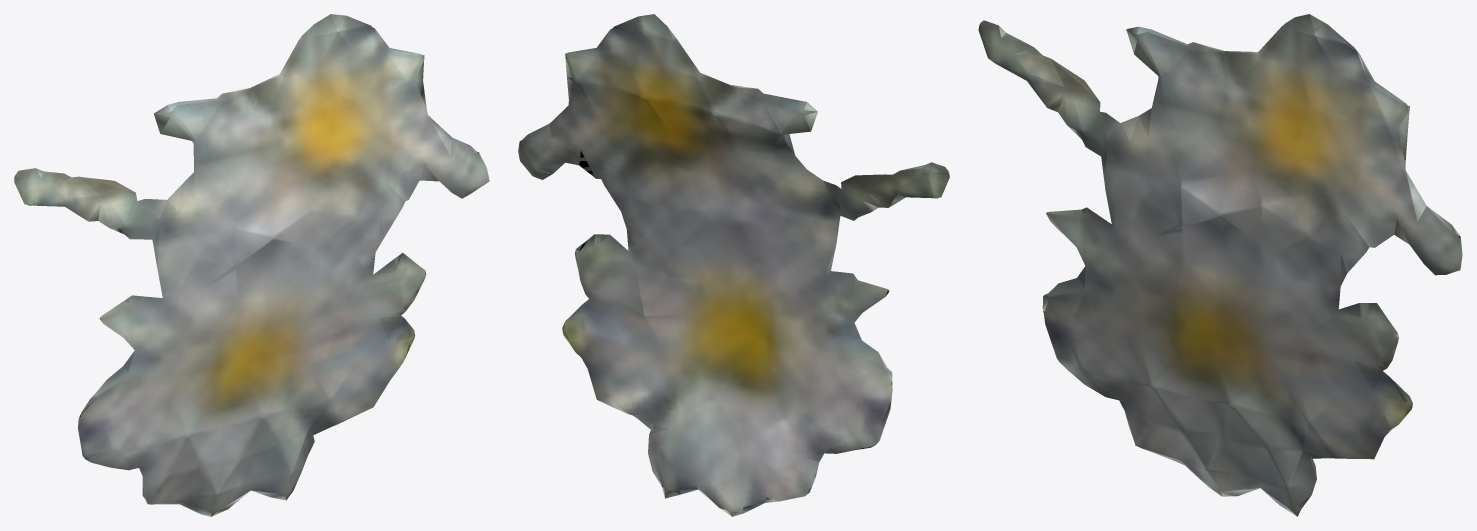
Rendered from chamomile.glb.
3 renders of one model, left to right at view 1: azimuth 30°, elevation 25°; view 2: azimuth 150°, elevation 25°; view 3: azimuth 330°, elevation 25°, orthographic. The views are drawn at different scales.
Parts seen in each view (by area): view 1: world; view 2: world; view 3: world.
Part boxes in pixels (x1,y1,x2,y2): world: (14, 14, 489, 516); world: (518, 14, 949, 516); world: (978, 14, 1462, 516).
Bounding box in the file's own units: 0.2751 × 0.2785 × 0.0341.
Materials: 1 (1 with a texture image).
